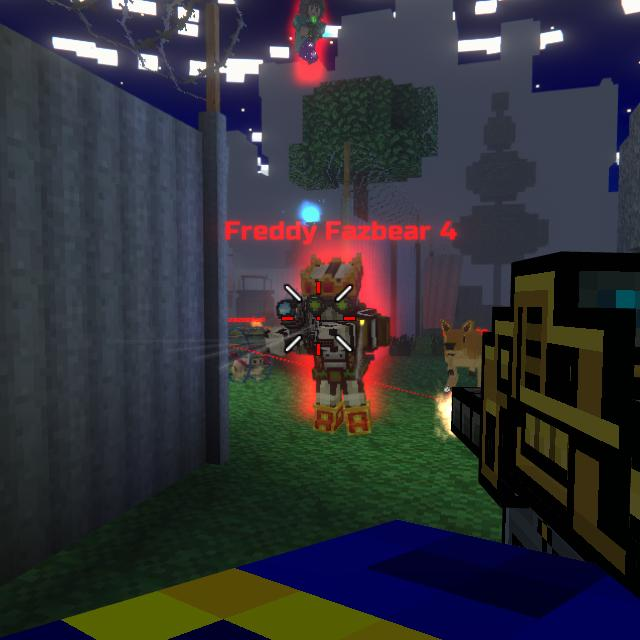Enemy: (282, 258, 391, 436), (293, 1, 327, 66)
